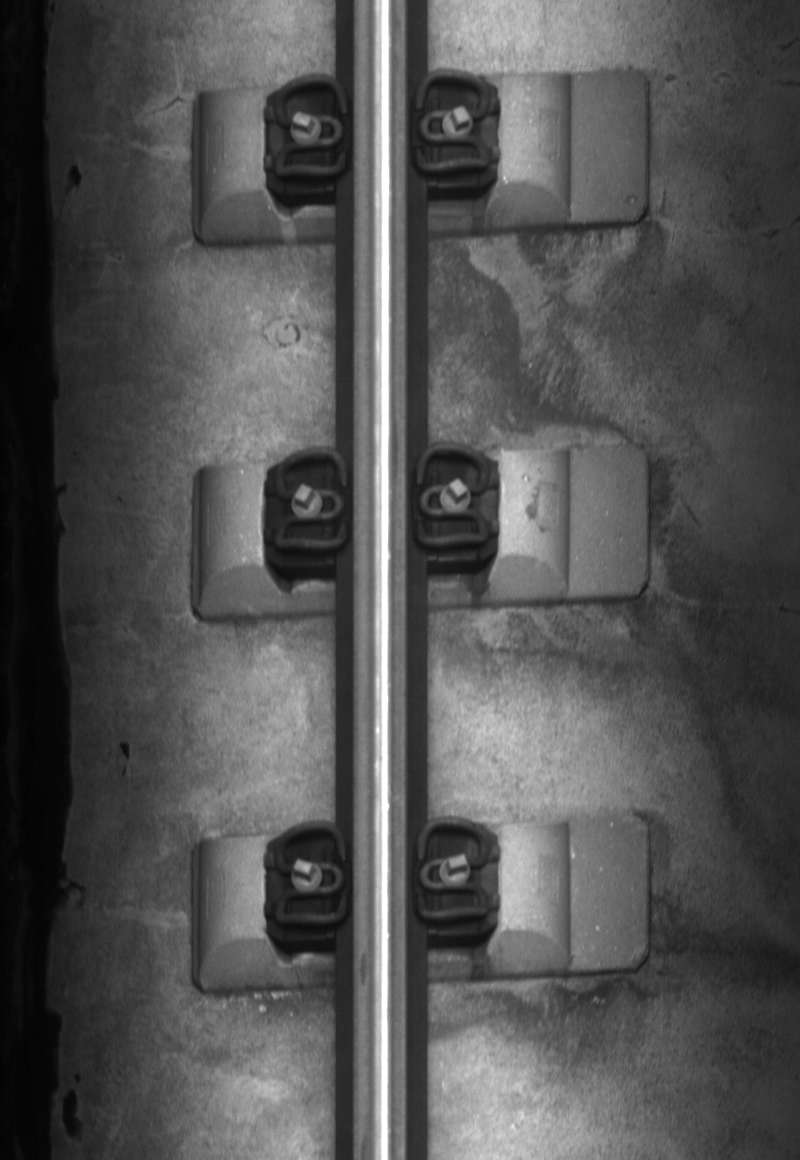l_faster: (267, 70, 352, 185), (267, 816, 352, 929), (267, 445, 352, 558)
r_faster: (411, 66, 493, 180), (412, 442, 494, 553), (413, 816, 492, 923)
